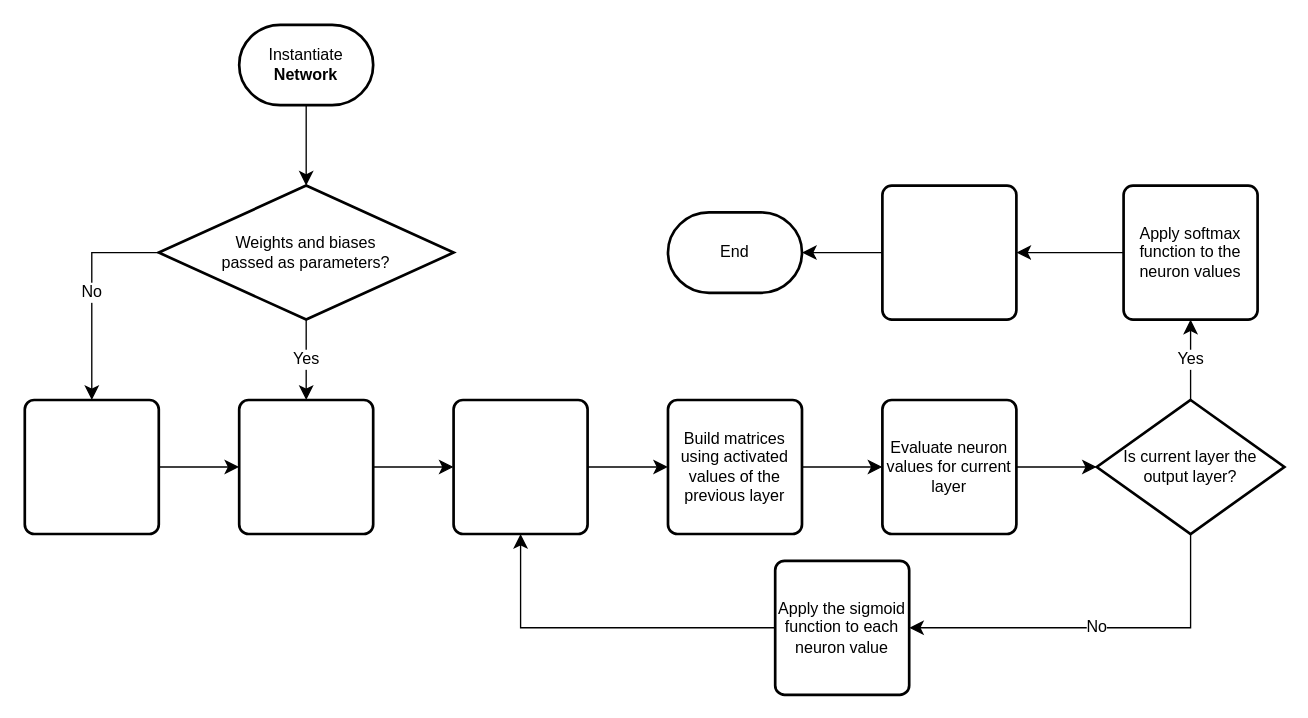
The diagram is 1308 pixels wide and 718 high, and some of its shapes have lost their labels. The shapes that lost their labels are listed below. From the top down, each one's box as (x1, y1, x2, y2) in pixels, then its label:
(880, 184, 1017, 320): Set result to the highest activated value
(23, 398, 159, 535): Load network parameters from Data class
(237, 398, 374, 535): Set first layer of network to input values
(452, 398, 588, 535): Increment layer by 1
